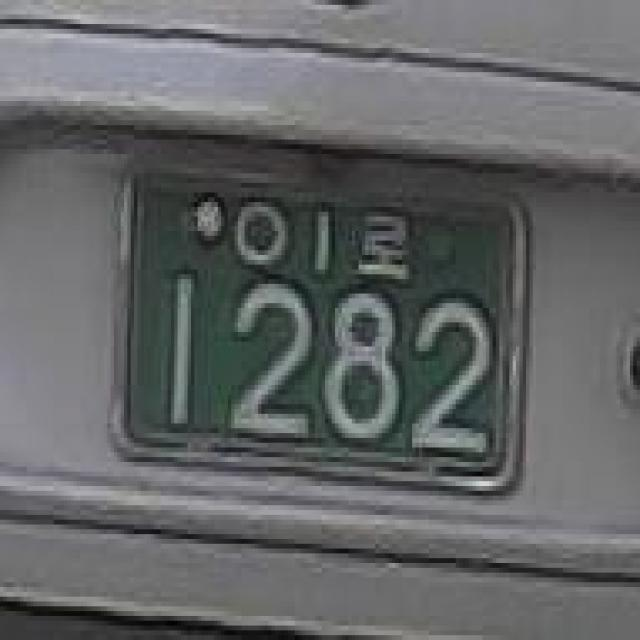illegal_plate: (99, 149, 542, 503)
